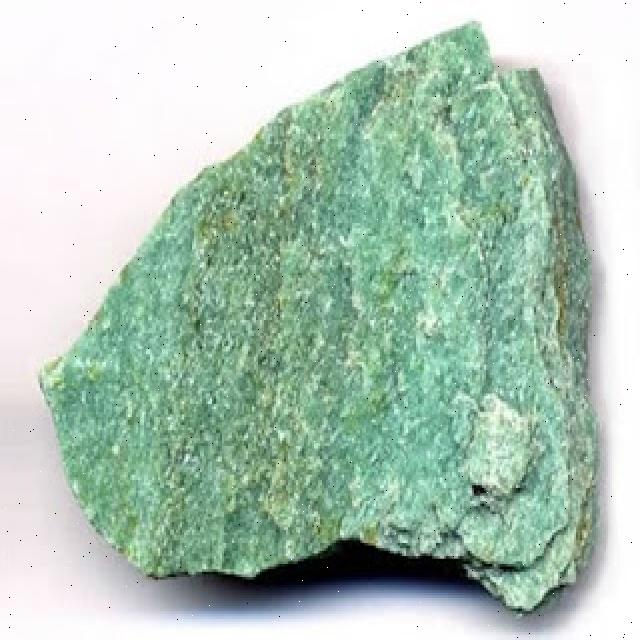Metamorphic: (34, 24, 614, 616)
